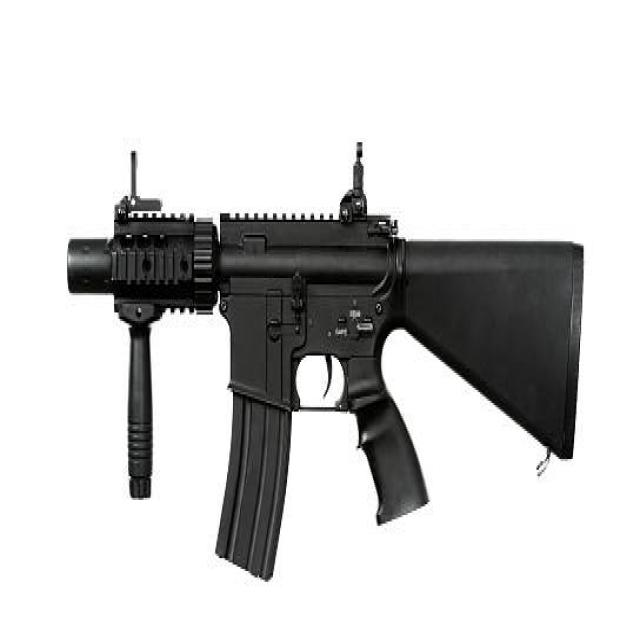rifle: (56, 130, 595, 594)
